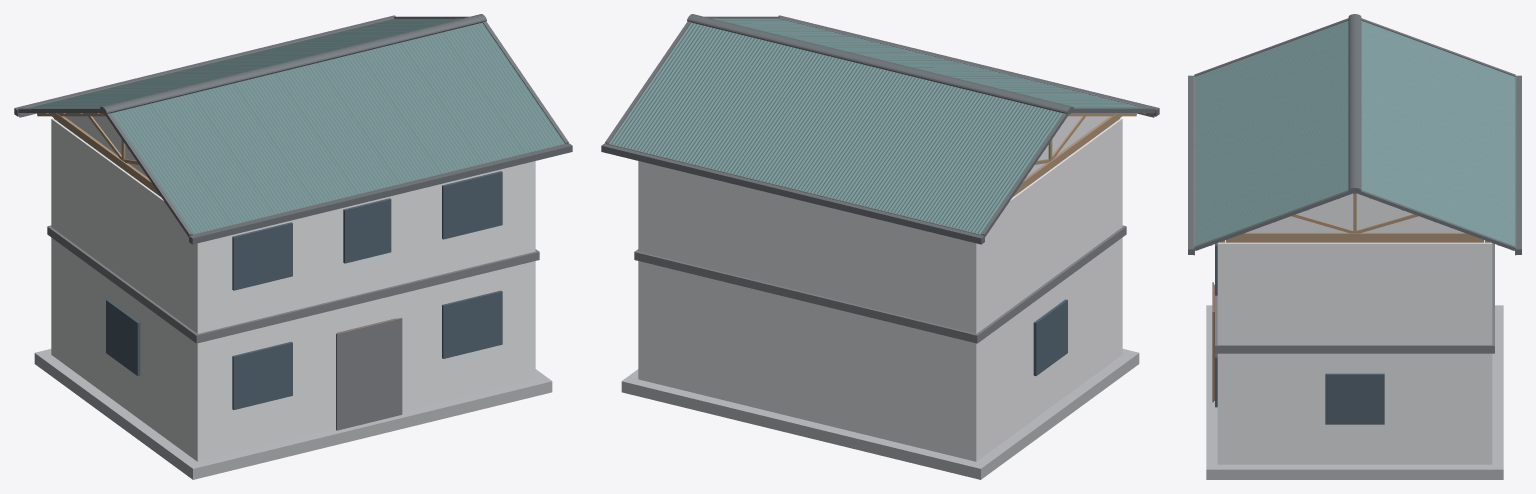
File: Agua_Corr_1220_Two_Storey_8x6.glb
3 views of the same model, side by side, from view 1: azimuth 30°, elevation 25°; view 2: azimuth 150°, elevation 25°; view 3: azimuth 270°, elevation 25° (orthographic). The views are drawn at different scales.
Parts seen in each view (by area): view 1: GroundFloor_Walls, Foundation, Door_Frame, RoofSheet_03, RoofSheet_08, RoofSheet_02, RoofSheet_07, RoofSheet_04, RoofSheet_05, RoofSheet_06, RoofSheet_09, RoofSheet_01 (+25 smaller); view 2: GroundFloor_Walls, Foundation, RoofSheet_12, RoofSheet_17, RoofSheet_11, RoofSheet_16, RoofSheet_13, RoofSheet_14, RoofSheet_15, RoofSheet_18, RoofSheet_10, SecondFloor_BandTrim (+19 smaller); view 3: GroundFloor_Walls, Foundation, Gable_Wall_Right, Window_Side_Right, RoofSheet_07, RoofSheet_16, RoofSheet_06, RoofSheet_08, RoofSheet_15, RoofSheet_17, RoofSheet_05, RoofSheet_14 (+20 smaller).
Part boxes in pixels (left/top/right/bottom): GroundFloor_Walls: left=51, top=118, right=535, bottom=461; Foundation: left=34, top=349, right=552, bottom=479; Door_Frame: left=336, top=318, right=402, bottom=430; RoofSheet_03: left=192, top=83, right=315, bottom=214; RoofSheet_08: left=400, top=32, right=524, bottom=163; RoofSheet_02: left=150, top=93, right=273, bottom=224; RoofSheet_07: left=359, top=43, right=482, bottom=173; RoofSheet_04: left=233, top=73, right=356, bottom=204; RoofSheet_05: left=275, top=63, right=398, bottom=193; RoofSheet_06: left=317, top=53, right=440, bottom=183; RoofSheet_09: left=442, top=22, right=564, bottom=153; RoofSheet_01: left=111, top=104, right=231, bottom=234; GroundFloor_Walls: left=638, top=118, right=1122, bottom=461; Foundation: left=621, top=349, right=1139, bottom=479; RoofSheet_12: left=858, top=83, right=981, bottom=214; RoofSheet_17: left=649, top=32, right=773, bottom=163; RoofSheet_11: left=900, top=93, right=1023, bottom=224; RoofSheet_16: left=691, top=43, right=814, bottom=173; RoofSheet_13: left=817, top=73, right=940, bottom=204; RoofSheet_14: left=775, top=63, right=898, bottom=193; RoofSheet_15: left=733, top=53, right=856, bottom=183; RoofSheet_18: left=609, top=22, right=731, bottom=153; RoofSheet_10: left=942, top=104, right=1062, bottom=234; SecondFloor_BandTrim: left=634, top=225, right=1126, bottom=343; GroundFloor_Walls: left=1217, top=240, right=1492, bottom=464; Foundation: left=1206, top=305, right=1503, bottom=479; Gable_Wall_Right: left=1246, top=193, right=1463, bottom=232; Window_Side_Right: left=1325, top=373, right=1384, bottom=424; RoofSheet_07: left=1195, top=135, right=1348, bottom=210; RoofSheet_16: left=1361, top=135, right=1514, bottom=210; RoofSheet_06: left=1195, top=116, right=1348, bottom=191; RoofSheet_08: left=1195, top=154, right=1348, bottom=229; RoofSheet_15: left=1361, top=116, right=1514, bottom=191; RoofSheet_17: left=1361, top=154, right=1514, bottom=229; RoofSheet_05: left=1195, top=97, right=1348, bottom=171; RoofSheet_14: left=1361, top=97, right=1514, bottom=171.
Bounding box in the file's own units: 8.99 × 7.16 × 7.3.
